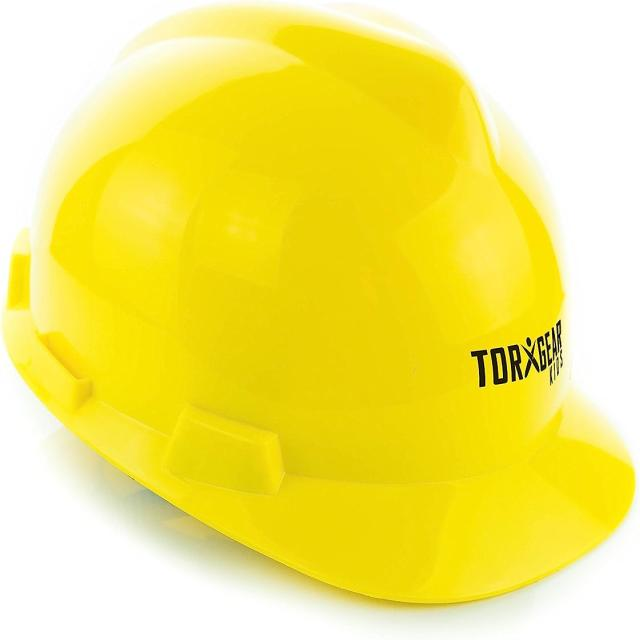helmet: (1, 0, 638, 608)
